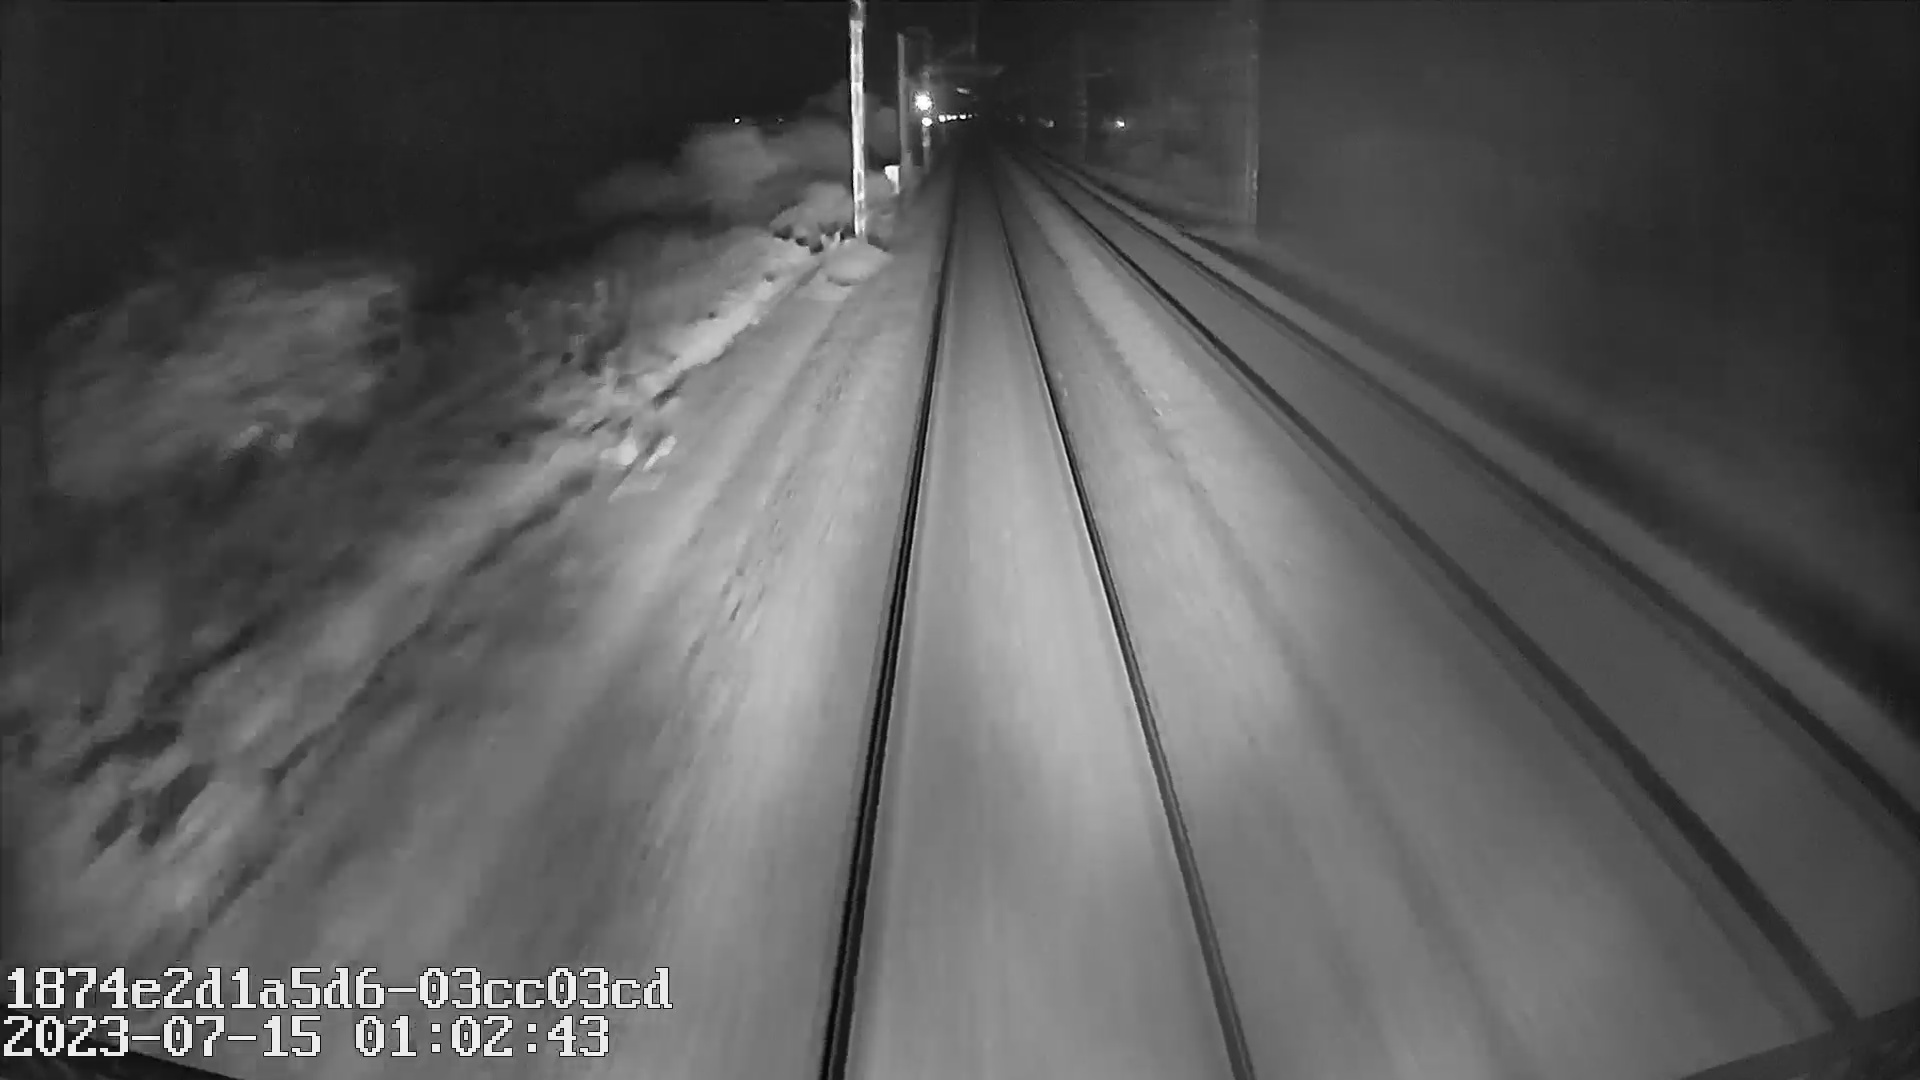track1: (836, 171, 1240, 1059)
track2: (1051, 185, 1908, 985)
